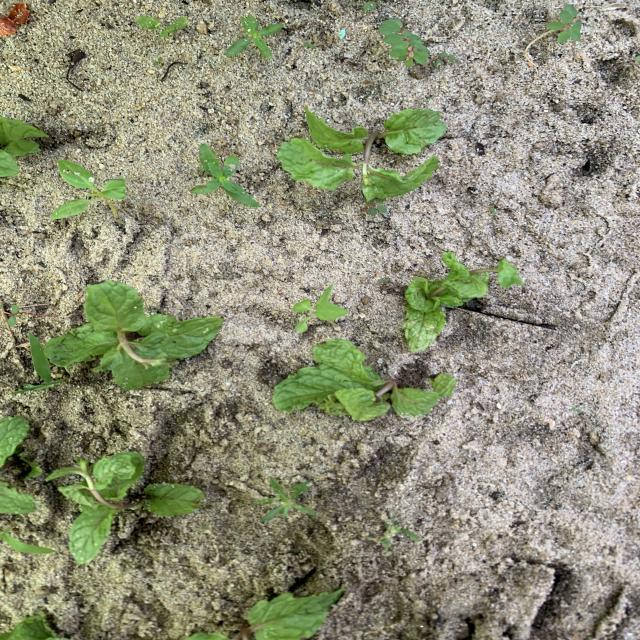crop: (43, 282, 220, 388), (48, 454, 202, 562), (277, 108, 446, 204), (272, 339, 455, 419), (403, 253, 522, 350), (235, 590, 343, 639), (1, 117, 47, 176), (0, 615, 64, 639), (0, 480, 36, 512)
weed: (52, 161, 127, 223), (192, 143, 258, 207), (292, 286, 348, 333), (226, 15, 283, 58), (254, 479, 315, 519), (381, 18, 430, 66), (28, 334, 60, 387), (547, 4, 582, 42), (1, 531, 54, 554), (1, 304, 28, 326), (160, 16, 187, 35), (435, 52, 455, 66), (364, 1, 376, 12), (489, 206, 496, 215)
